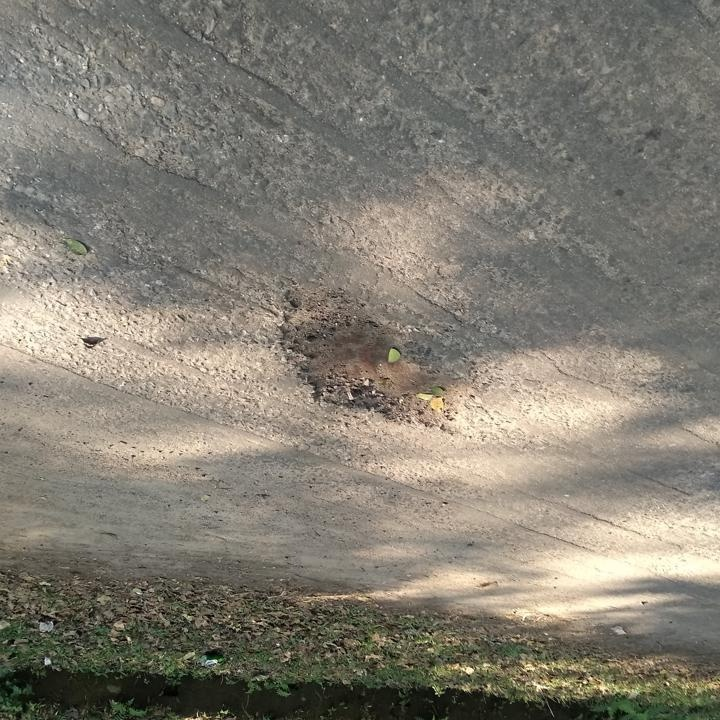pothole: (270, 281, 477, 440)
